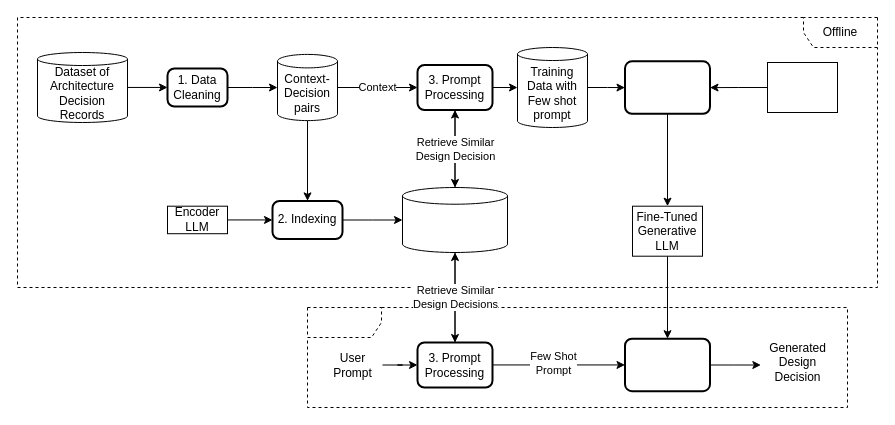
Image size: 895x425. Some labels were removed from this diagram. The shapes that lost their labels are listed below. From the top down, each one's box as (x1, y1, x2, y2) in pixels, then its label:
(624, 60, 710, 114): 4. Genarative LLM Fine Tuning
(766, 62, 838, 112): Foundation LLM
(402, 186, 508, 252): Vector DB of Previous Design Decision
(306, 306, 848, 408): Online
(624, 337, 710, 392): 5. Inference Handler
